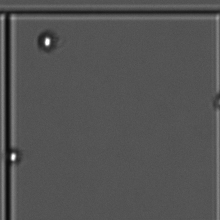Living Cell: (33, 27, 60, 51), (7, 148, 21, 165)
